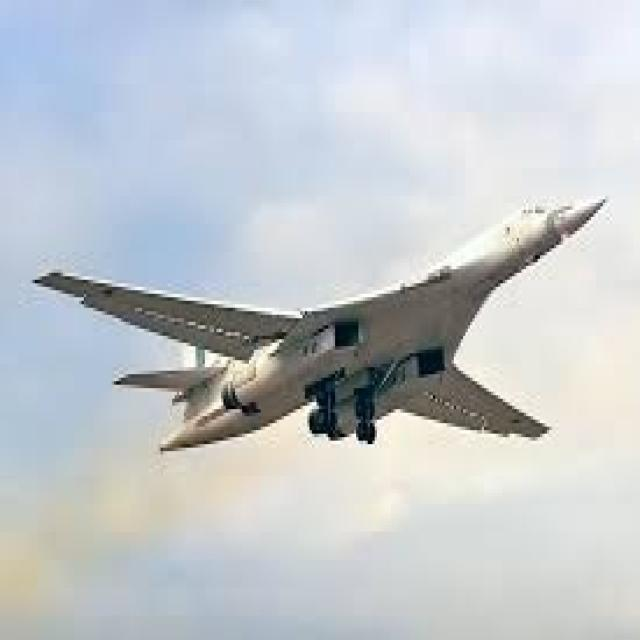Tu160: (18, 145, 616, 518)
